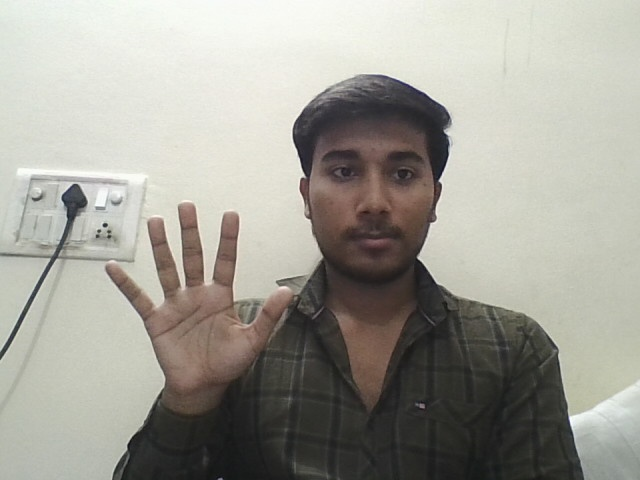hello: (88, 201, 300, 441)
